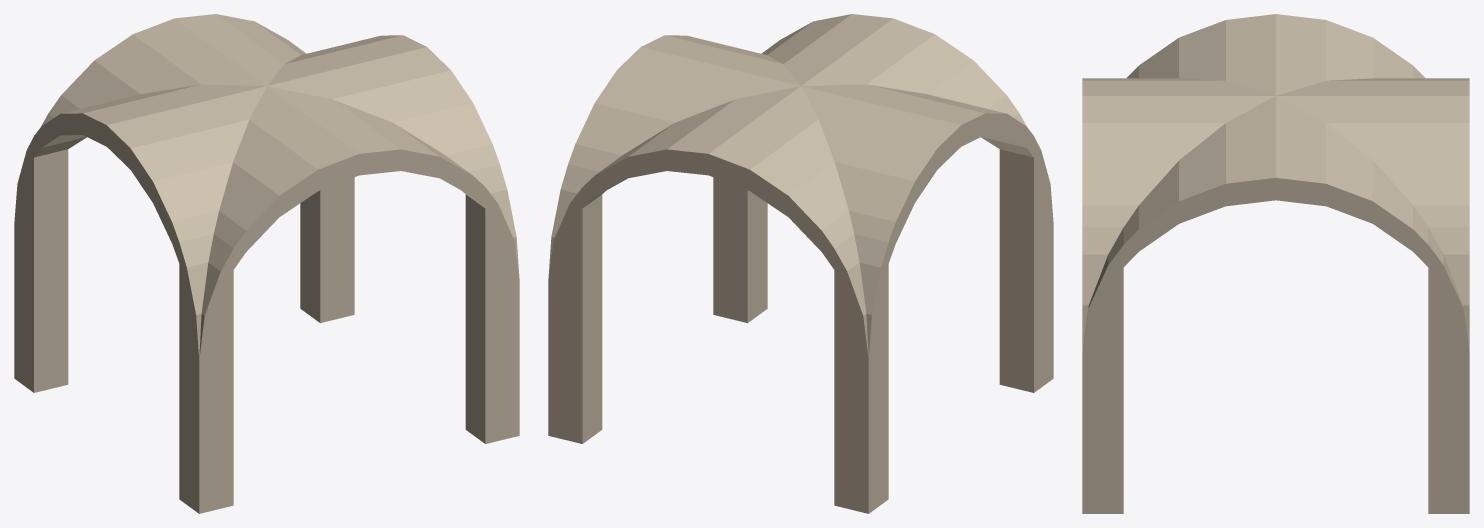
3 renders of one model, left to right at view 1: azimuth 30°, elevation 25°; view 2: azimuth 150°, elevation 25°; view 3: azimuth 270°, elevation 25°, orthographic. The views are drawn at different scales.
Parts seen in each view (by area): view 1: WholeFourWayGroinVaultAndCornerPiers; view 2: WholeFourWayGroinVaultAndCornerPiers; view 3: WholeFourWayGroinVaultAndCornerPiers.
Boxes of the visible parts, left/top/right/bottom form: WholeFourWayGroinVaultAndCornerPiers: left=14, top=14, right=519, bottom=513; WholeFourWayGroinVaultAndCornerPiers: left=548, top=14, right=1053, bottom=513; WholeFourWayGroinVaultAndCornerPiers: left=1082, top=14, right=1469, bottom=513.
Bounding box in the file's own units: 2.8 × 2.68 × 2.8.
